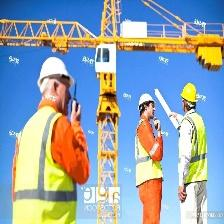Person: (12, 59, 87, 224), (174, 84, 210, 224), (134, 92, 164, 224)
helmet: (38, 57, 74, 82), (181, 83, 198, 105), (139, 94, 155, 106)
vest: (15, 108, 75, 224), (180, 111, 207, 185), (136, 120, 163, 185)
